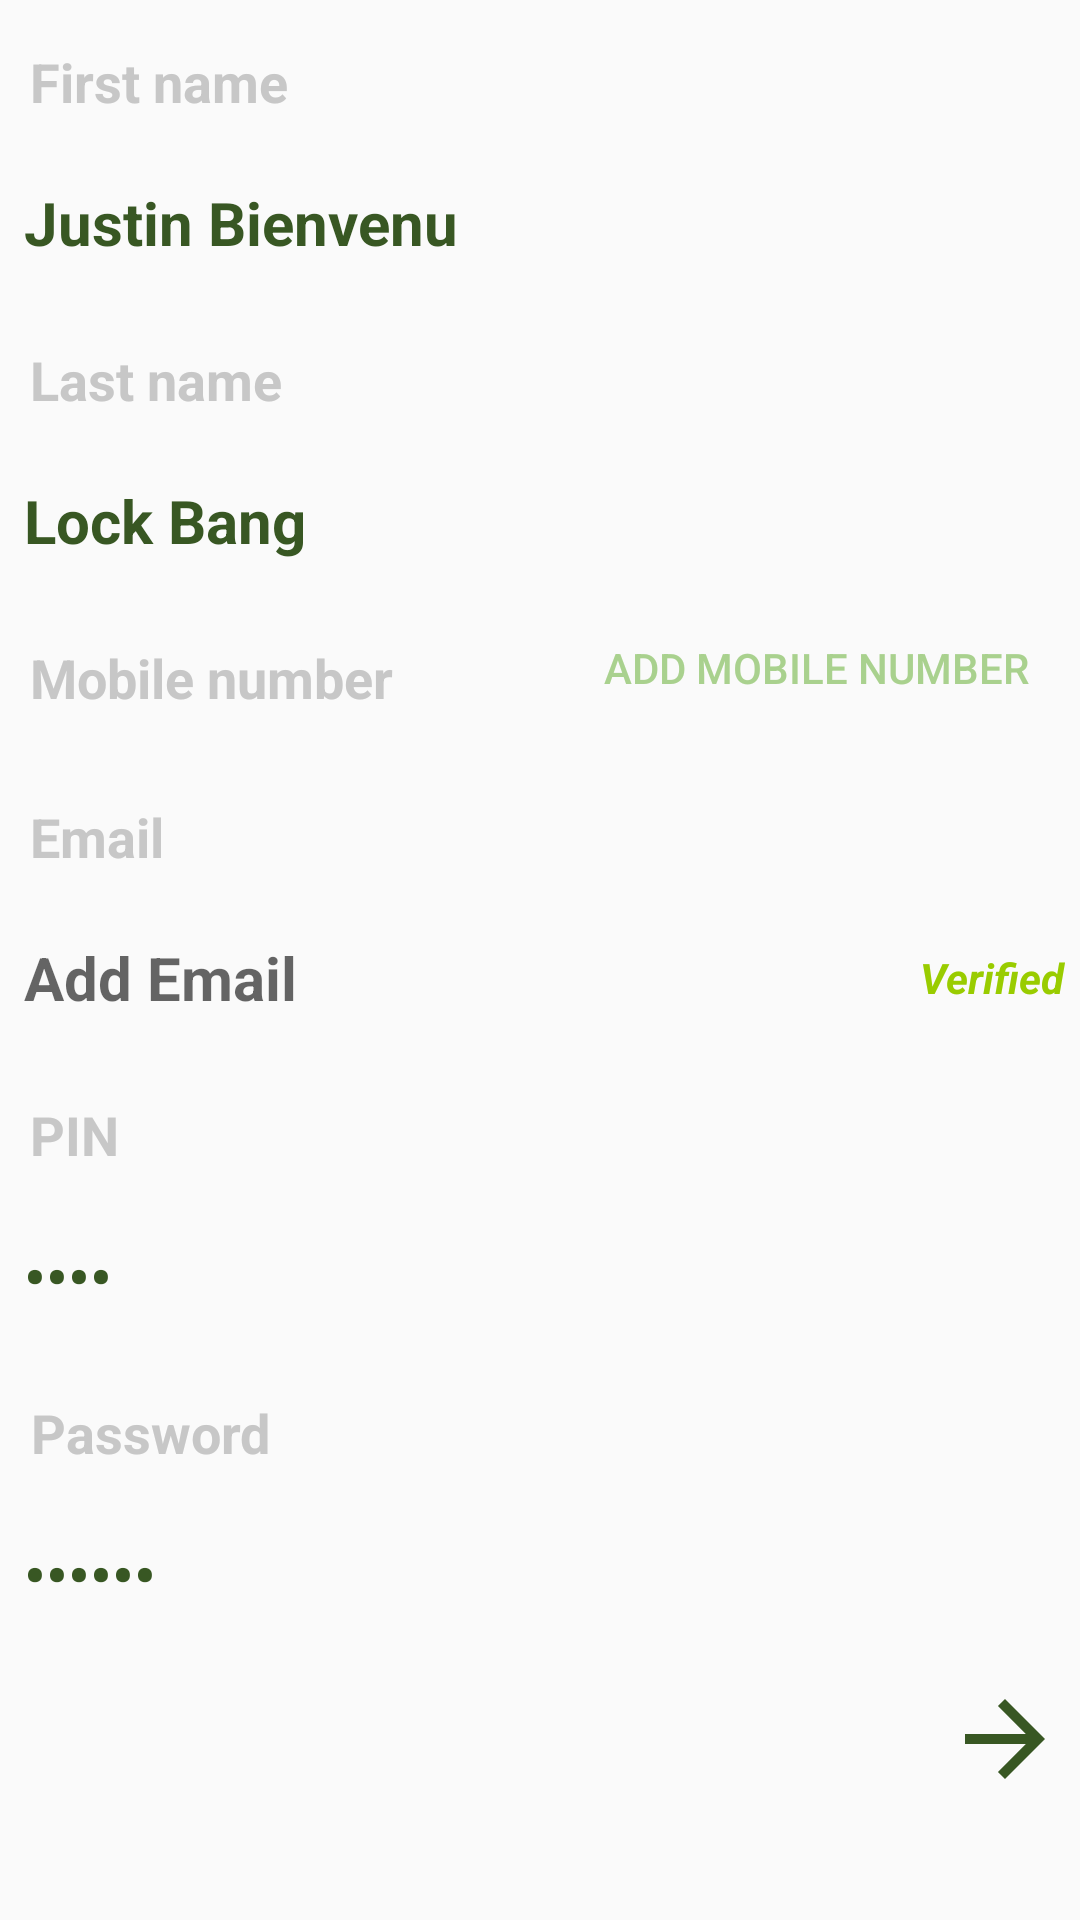

Point at icon controls on the screen. Image size 1080 x 1920, points as (x=x, y=y).
arrow: (x=1005, y=1739)
